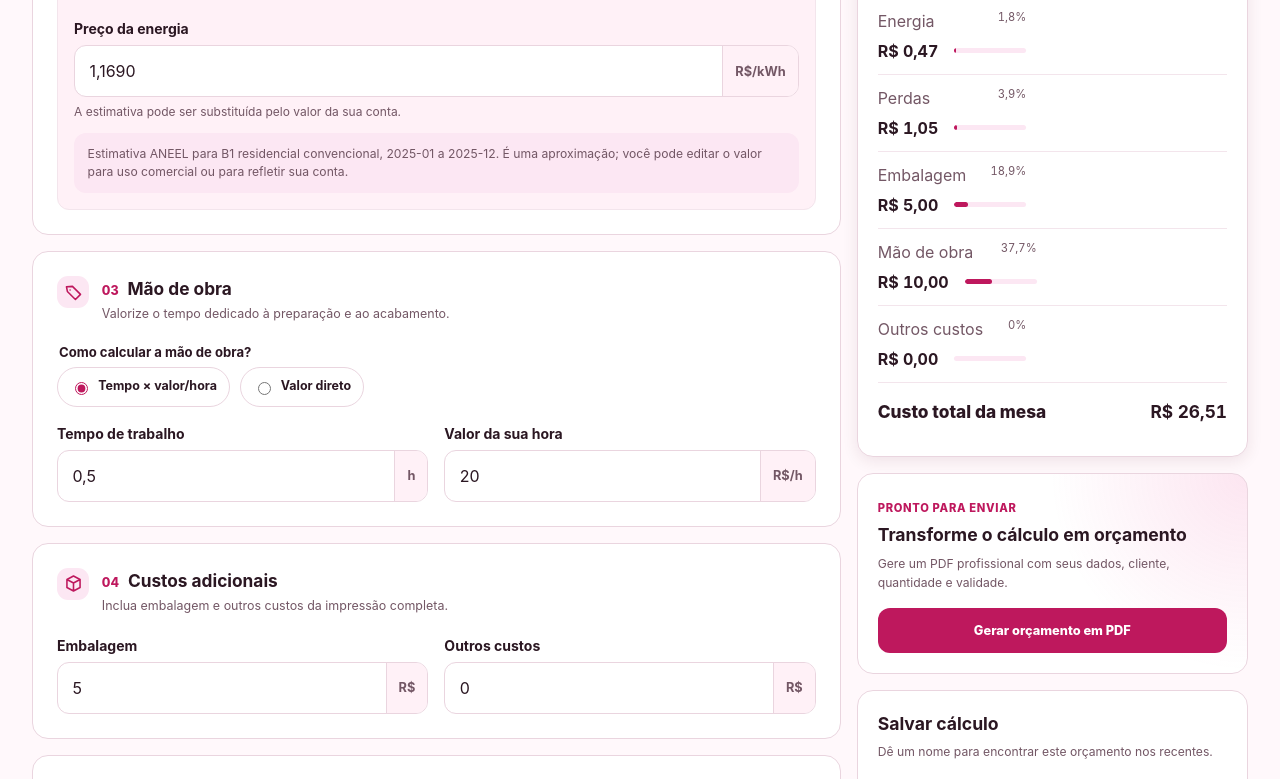
Test: CostCalculatorPage › alterna para mão de obra com valor direto
(page scrolled)
Click the radio button labelled "Valor direto": (264, 388) [258,382,270,395]
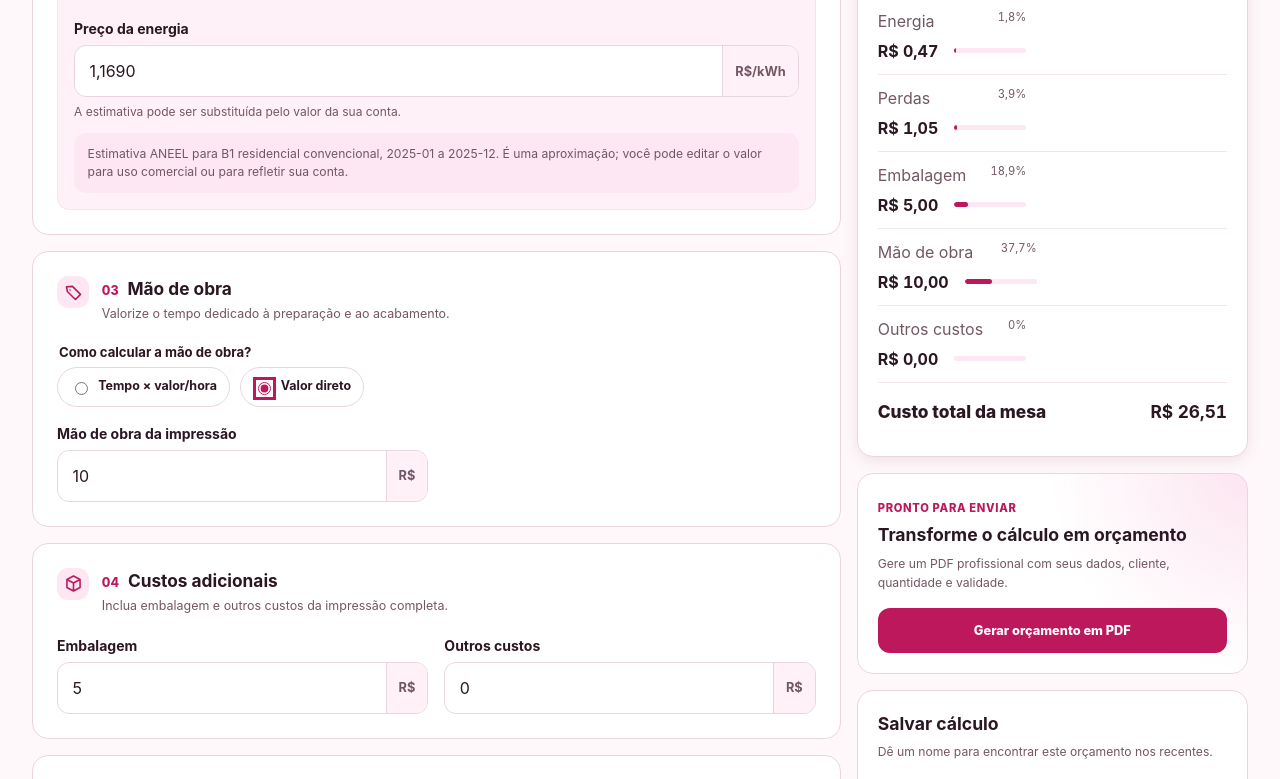
Expected: the field labelled "Mão de obra da impressão" is shown, [58,451,386,501]
Now the label labelled "Tempo de trabalho" is gone
